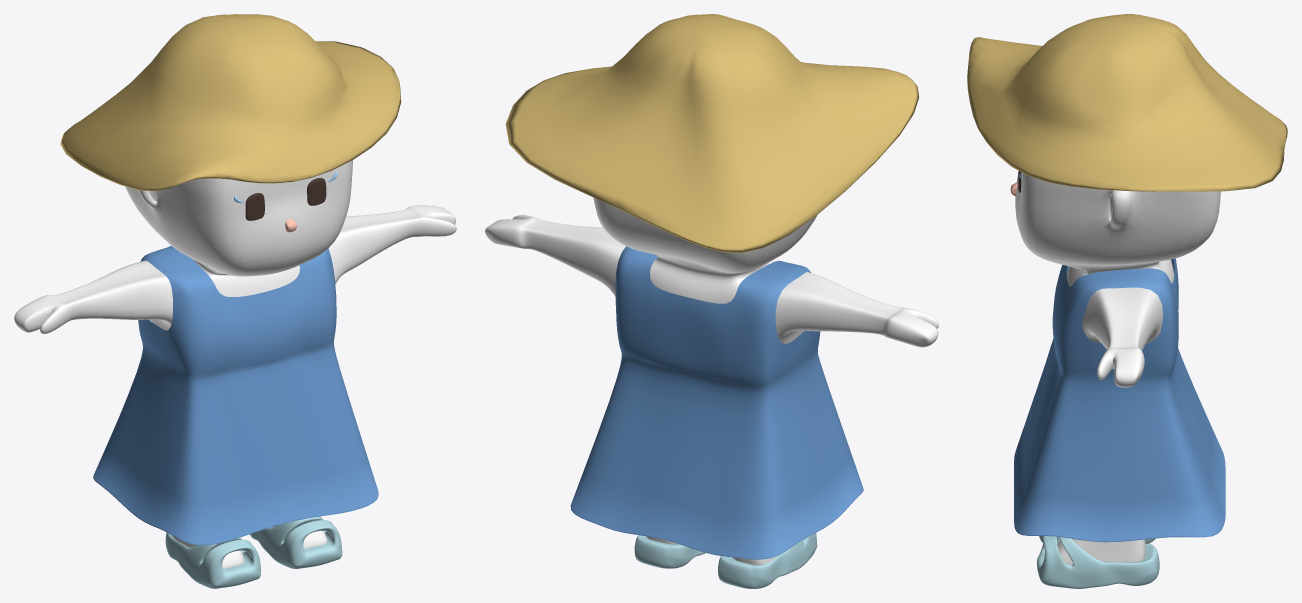
File: chica_vestimenta_basica.fbx
3 renders of one model, left to right at view 1: azimuth 30°, elevation 25°; view 2: azimuth 150°, elevation 25°; view 3: azimuth 270°, elevation 25°, orthographic. The views are drawn at different scales.
Visible parts, largest first — view 1: Vestido, Gorro, Cuerpo, Sandalias, Ojos; view 2: Gorro, Vestido, Cuerpo, Sandalias; view 3: Gorro, Vestido, Cuerpo, Sandalias.
Boxes of the visible parts, x1,y1,x2,y2 form: Vestido: (93, 246, 378, 545); Gorro: (60, 14, 401, 191); Cuerpo: (14, 160, 456, 568); Sandalias: (165, 516, 342, 588); Ojos: (245, 178, 326, 220); Gorro: (505, 14, 919, 252); Vestido: (570, 246, 863, 559); Cuerpo: (485, 197, 938, 565); Sandalias: (634, 533, 817, 588); Gorro: (967, 14, 1287, 191); Vestido: (1014, 258, 1225, 542); Cuerpo: (1015, 171, 1220, 564); Sandalias: (1037, 536, 1159, 588).
Size of the model in its own units: 202 by 233 by 127.
